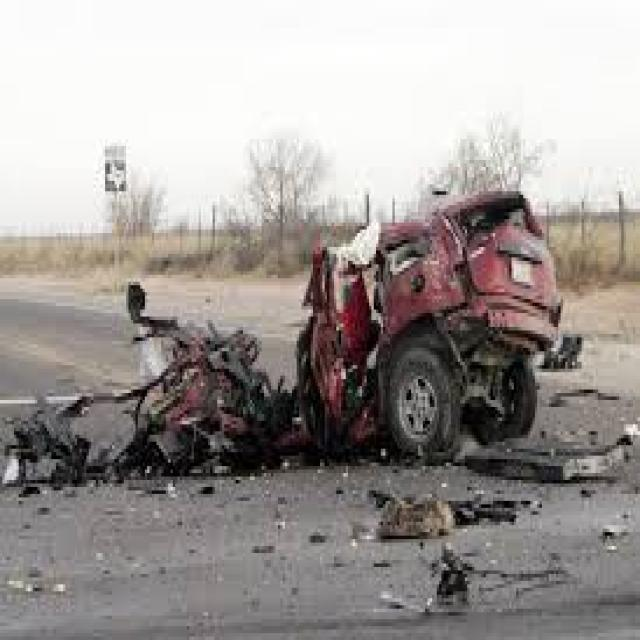car-serious-accident: (95, 192, 590, 544)
